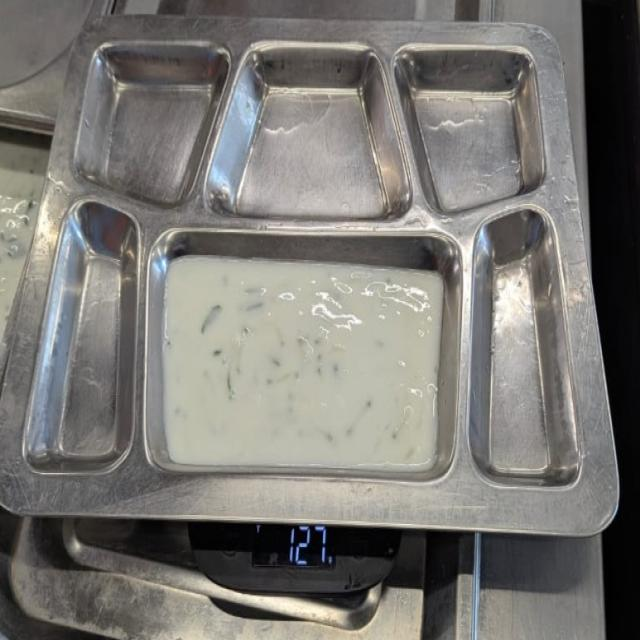Raita: (163, 252, 443, 473)
